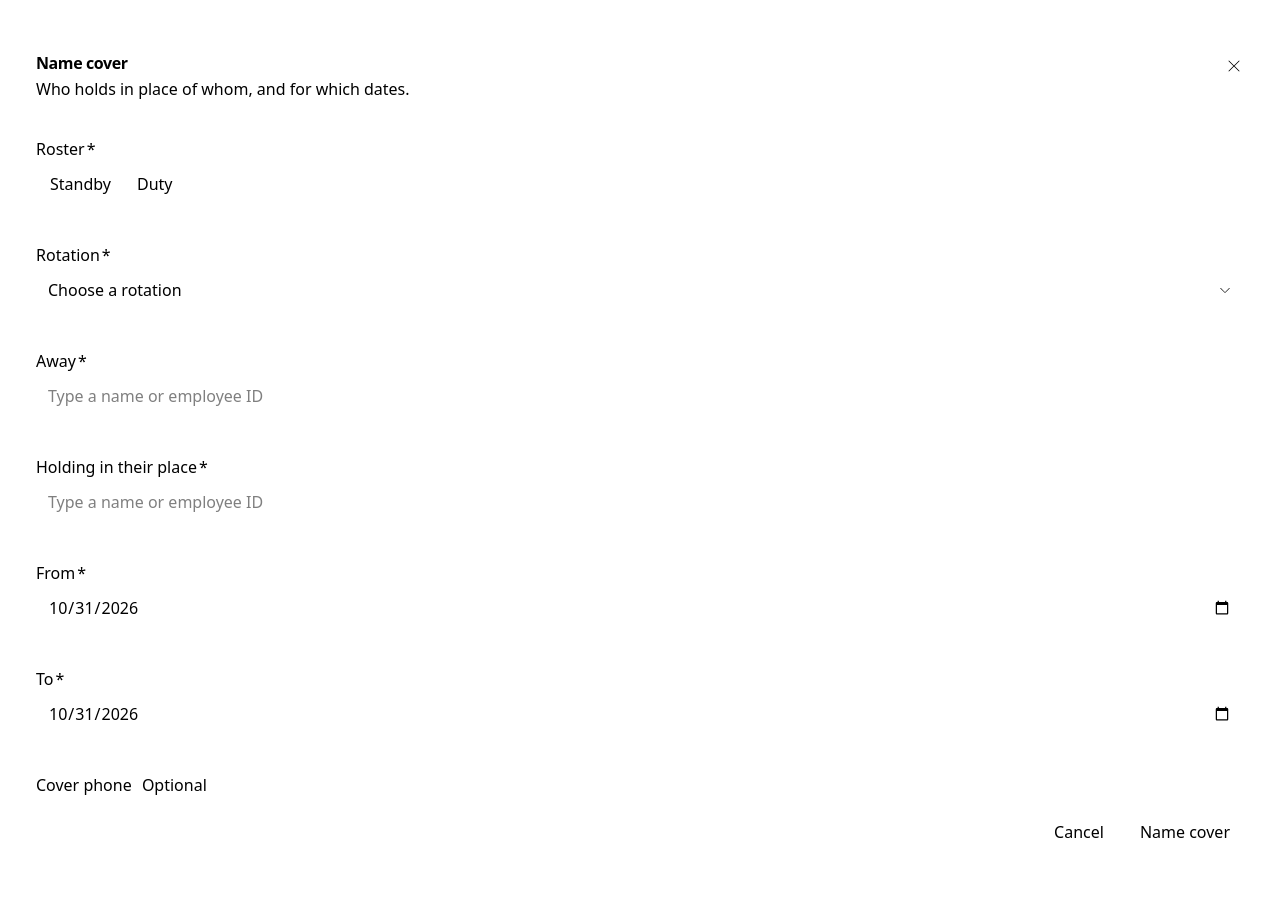
Test: CoverDialog › refuses an empty save and keeps the dialog open
This screenshot has width=1280, height=900.
Click the button "Name cover".
click(1185, 832)  # box [1126,814,1244,850]
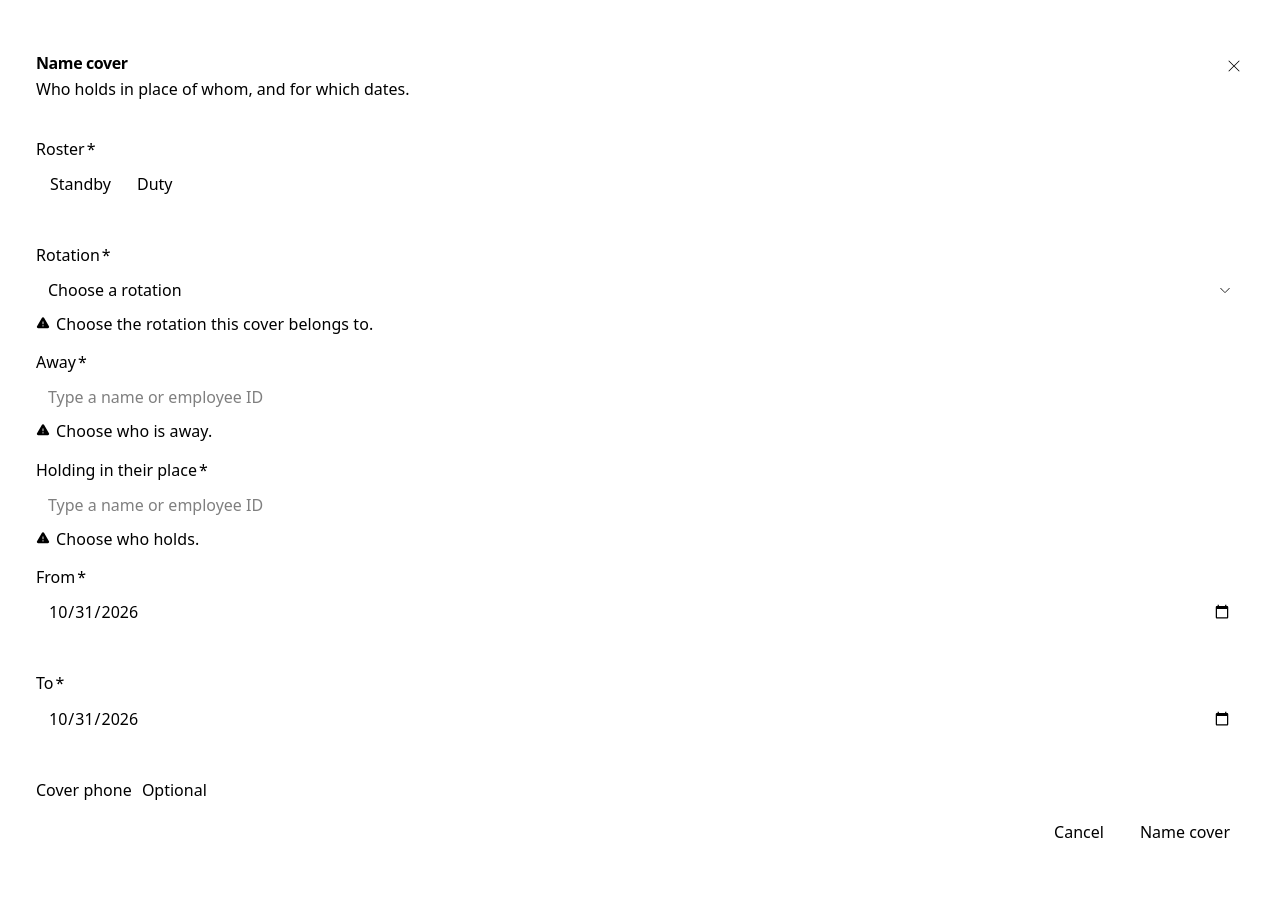
Now the text "Choose the rotation this cover belongs to." is shown, box [56,314,373,335]
Now the text "Choose who is away." is shown, box [56,421,212,443]
